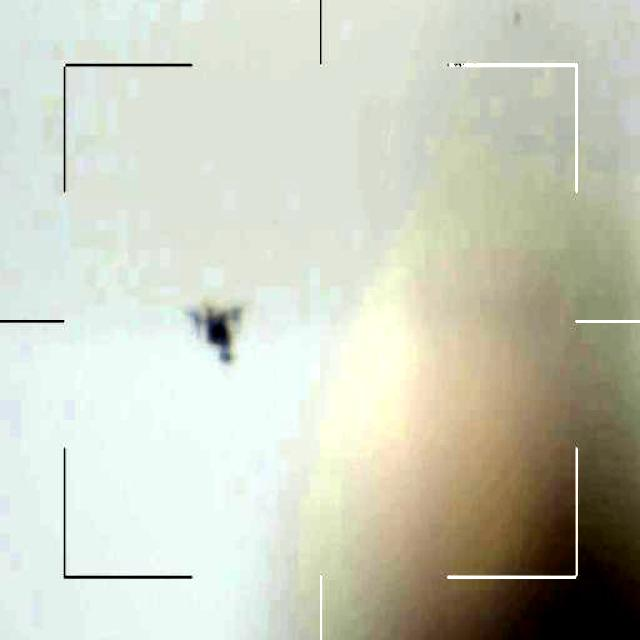bird: (189, 295, 250, 365)
